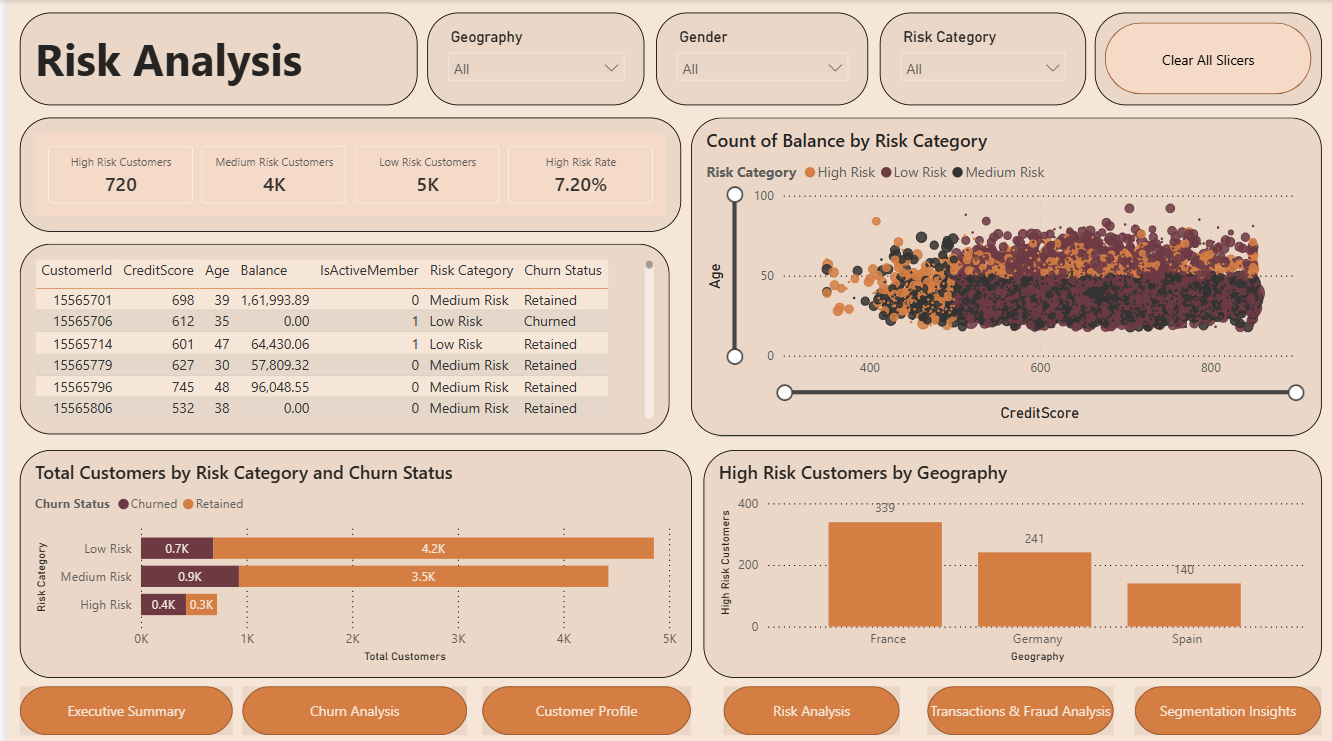

What the dashboard file says about the page in this screenshot:
{"tool":"powerbi","page":{"name":"Risk Analysis","canvas":[1280,720],"ordinal":3},"visuals":[{"type":"textbox","box":[13.3,12.1,383.6,89.3],"z":0},{"type":"barChart","fields":{"Category":["customers.Risk Category"],"Y":["customers.Total Customers"],"Series":["customers.Churn Status"]},"box":[12.9,434.3,648.6,220],"z":1000},{"type":"columnChart","fields":{"Y":["customers.High Risk Customers"],"Category":["customers.Geography"]},"box":[672.9,434.3,597.1,220],"z":2000},{"type":"tableEx","fields":{"Values":["customers.CustomerId","customers.CreditScore","customers.Age","customers.Balance","customers.IsActiveMember","customers.Risk Category","customers.Churn Status"]},"box":[12.9,235.7,627.1,184.3],"z":3000},{"type":"scatterChart","title":"Count of Balance by Risk Category","fields":{"X":["customers.CreditScore"],"Y":["customers.Age"],"Series":["customers.Risk Category"],"Size":["Sum(customers.Balance)"]},"box":[661.4,112.9,608.6,307.1],"z":4000},{"type":"slicer","fields":{"Values":["customers.Geography"]},"box":[406.6,12.1,209.9,89.3],"z":5000},{"type":"slicer","fields":{"Values":["customers.Gender"]},"box":[627.3,12.1,205.1,89.3],"z":6000},{"type":"slicer","fields":{"Values":["customers.Risk Category"]},"box":[843.3,12.1,199.1,89.3],"z":7000},{"type":"shape","box":[12.9,662.9,205.7,47.1],"z":8000},{"type":"shape","box":[228.6,662.9,217.1,47.1],"z":9000},{"type":"shape","box":[460,662.9,201.4,47.1],"z":10000},{"type":"shape","box":[888.6,662.9,180,47.1],"z":11000},{"type":"shape","box":[1090,662.9,180,47.1],"z":12000},{"type":"cardVisual","fields":{"Data":["customers.High Risk Customers","customers.Medium Risk Customers","customers.Low Risk Customers","customers.High Risk Rate"]},"box":[12.9,112.9,638.6,110],"z":13000},{"type":"shape","box":[692.9,662.9,170,47.1],"z":14000},{"type":"shape","box":[1050.8,12.1,219.6,89.3],"z":14001}]}

Visuals, with their boxes in screenshot pixels (x1, y1, x2, y2), scaled from the page's 1280x720 canvas onto the 1332x741 screenshot:
textbox: bbox=[14, 12, 413, 104]
barChart - customers.Risk Category x customers.Total Customers: bbox=[13, 447, 688, 673]
columnChart - customers.High Risk Customers x customers.Geography: bbox=[700, 447, 1322, 673]
tableEx - customers.CustomerId x customers.CreditScore: bbox=[13, 243, 666, 432]
"Count of Balance by Risk Category" scatterChart: bbox=[688, 116, 1322, 432]
slicer - customers.Geography: bbox=[423, 12, 642, 104]
slicer - customers.Gender: bbox=[653, 12, 866, 104]
slicer - customers.Risk Category: bbox=[878, 12, 1085, 104]
shape: bbox=[13, 682, 227, 731]
shape: bbox=[238, 682, 464, 731]
shape: bbox=[479, 682, 688, 731]
shape: bbox=[925, 682, 1112, 731]
shape: bbox=[1134, 682, 1322, 731]
cardVisual - customers.High Risk Customers x customers.Medium Risk Customers: bbox=[13, 116, 678, 229]
shape: bbox=[721, 682, 898, 731]
shape: bbox=[1093, 12, 1322, 104]
